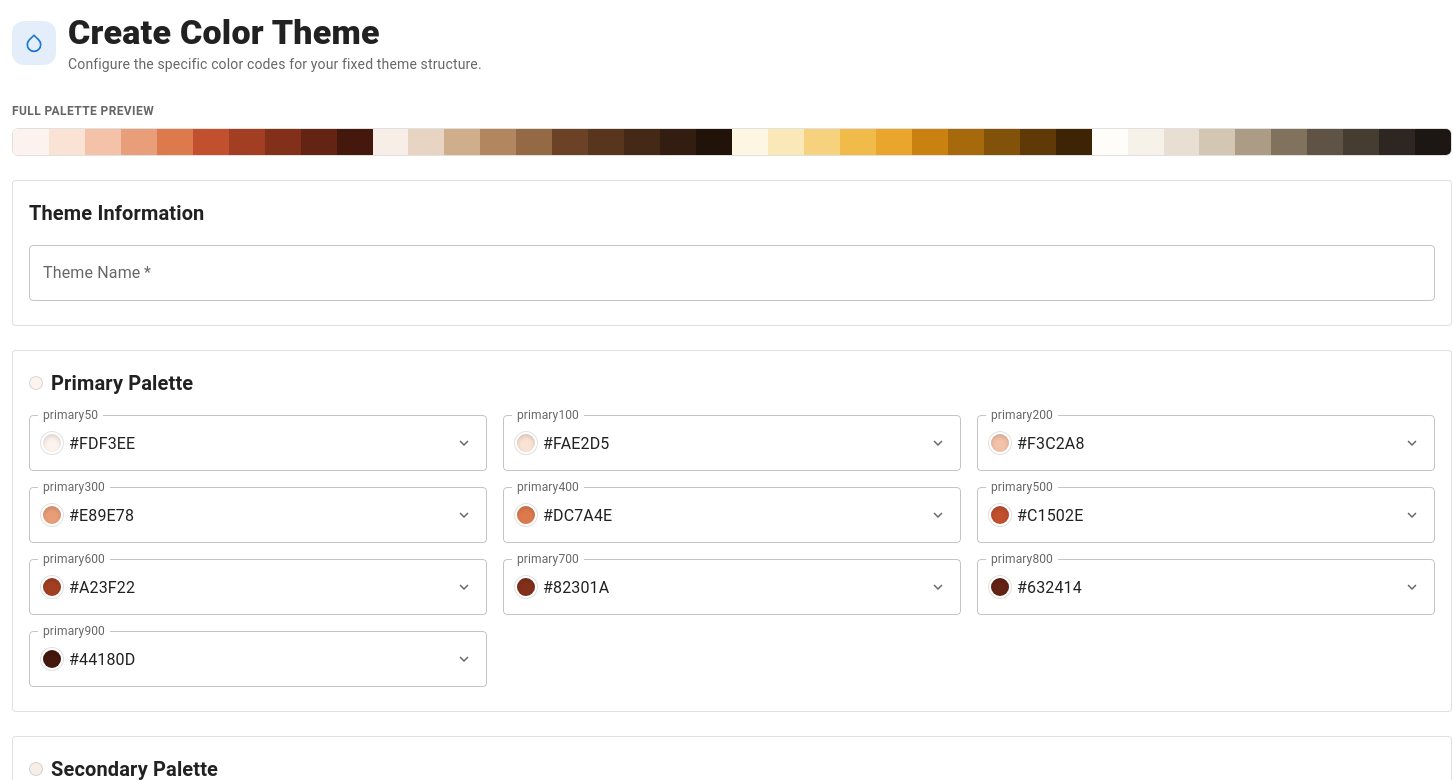
Test case: ColorThemeForm › shows a Yup validation error once the theme name field is blurred empty
Click the field labelled "Theme Name *".
click(732, 273)  # box [29,245,1435,301]
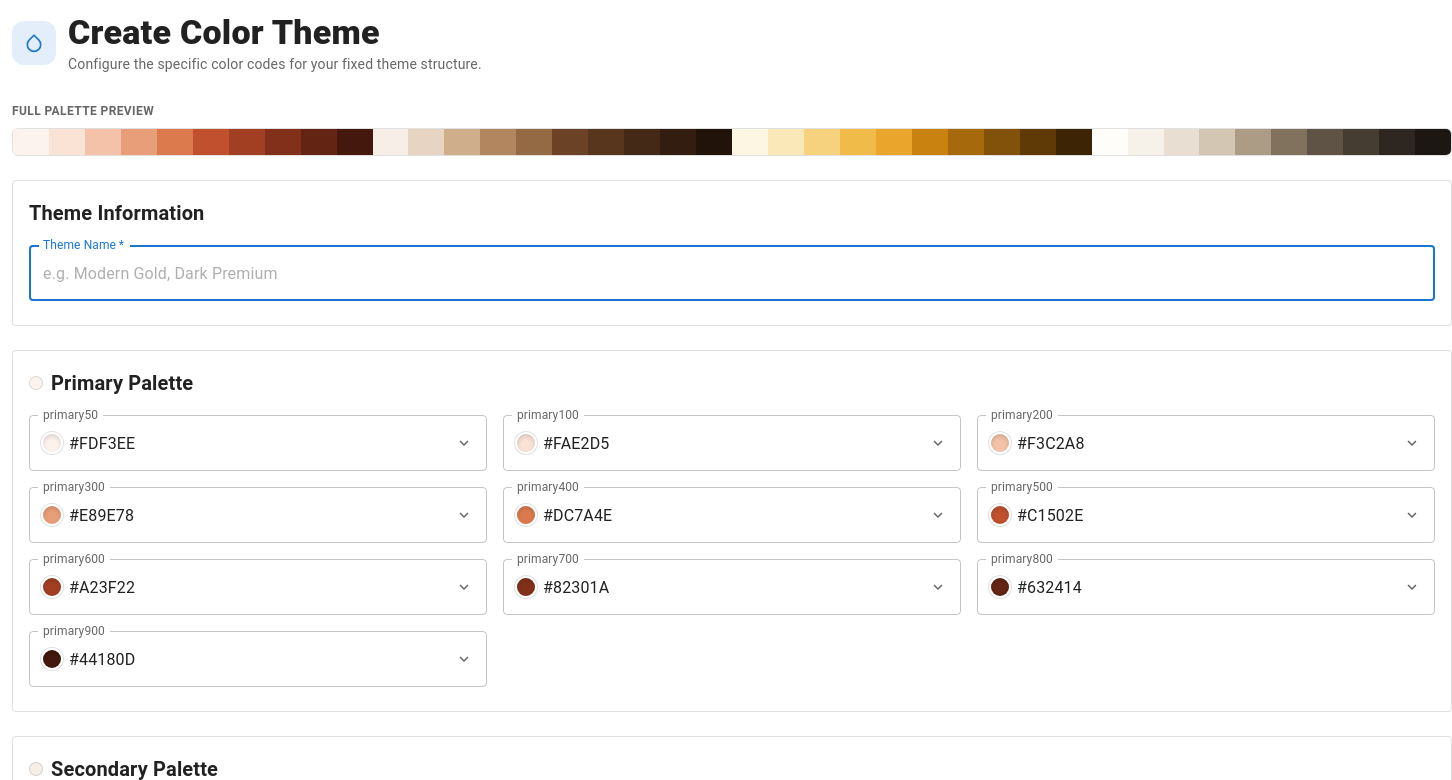
Press Tab
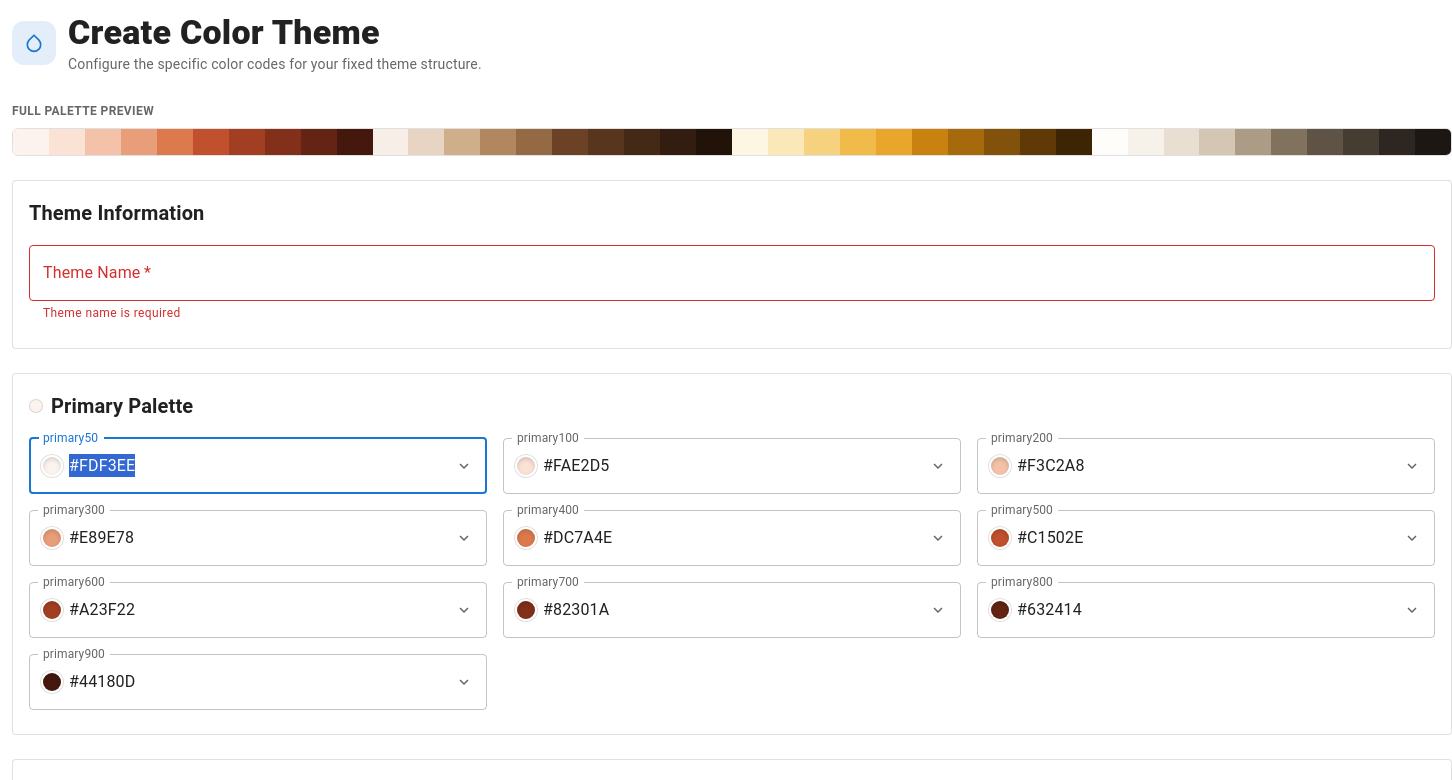
Check: the text "Theme name is required" is shown, box [43,306,181,320]
